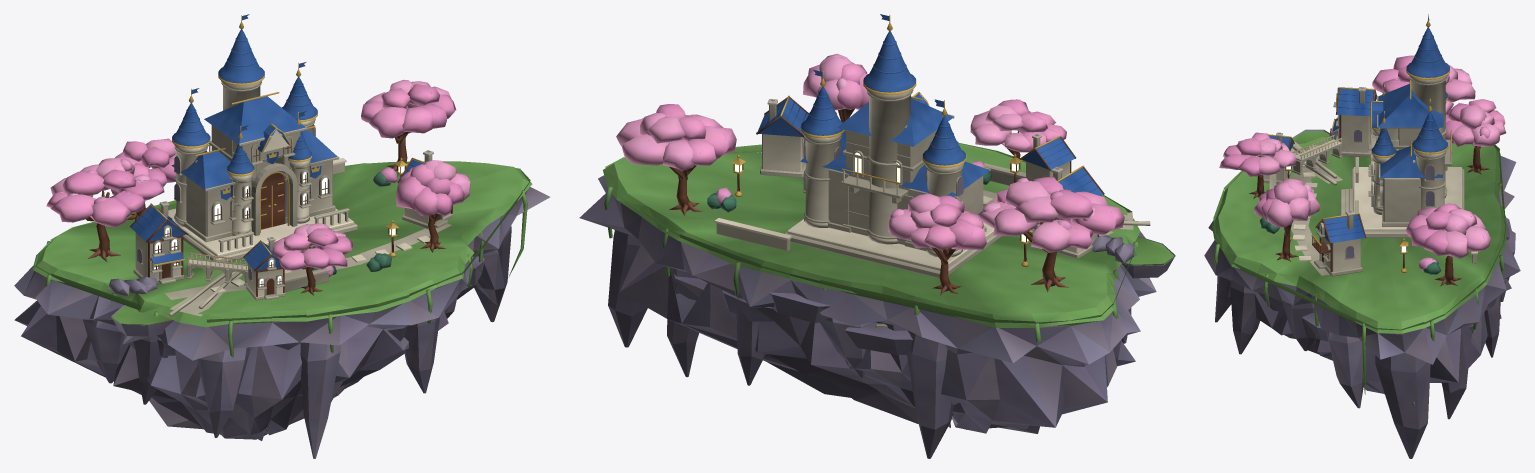
The model's file is royal-island-left-background-v1.glb.
3 views of the same model, side by side, from view 1: azimuth 30°, elevation 25°; view 2: azimuth 150°, elevation 25°; view 3: azimuth 270°, elevation 25° (orthographic). The views are drawn at different scales.
Visible parts, largest first — view 1: royal-island-left-background-v1; view 2: royal-island-left-background-v1; view 3: royal-island-left-background-v1.
Boxes of the visible parts, bbox=[...] form: royal-island-left-background-v1: bbox=[14, 14, 550, 458]; royal-island-left-background-v1: bbox=[579, 14, 1175, 458]; royal-island-left-background-v1: bbox=[1204, 14, 1520, 458].
Size of the model in its own units: 20.2 by 15.2 by 12.08.
10 materials, 10 textured.
